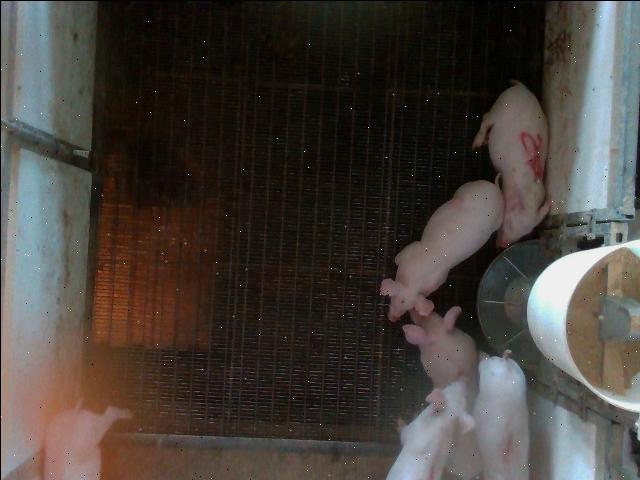pig-1: (472, 354, 528, 478)
pig-3: (402, 306, 478, 411), (442, 426, 481, 479)
pig-4: (386, 380, 474, 479)
pig-5: (472, 80, 549, 246)
